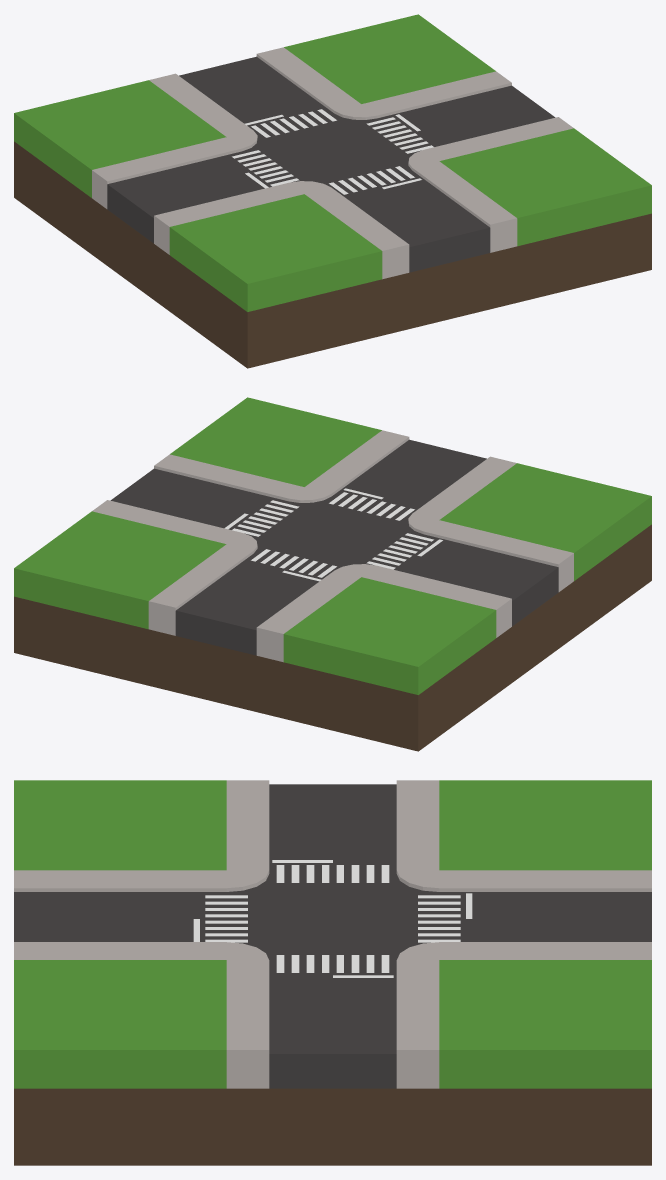
The model's file is tile-road-intersection.glb.
The picture shows the model from 3 angles, top to bottom: view 1: azimuth 30°, elevation 25°; view 2: azimuth 150°, elevation 25°; view 3: azimuth 270°, elevation 25°; orthographic projection. The views are drawn at different scales.
Parts seen in each view (by area): view 1: tile-road-intersection; view 2: tile-road-intersection; view 3: tile-road-intersection.
Boxes of the visible parts, box(x1,y1,x2,y2) form: tile-road-intersection: box(14, 14, 651, 368); tile-road-intersection: box(14, 397, 651, 751); tile-road-intersection: box(14, 780, 651, 1165).
Bounding box in the file's own units: 30 × 6 × 30.
1 material, 1 textured.
